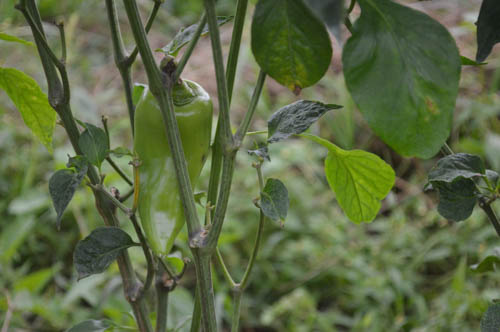ChiliPepper: (128, 88, 213, 264)
